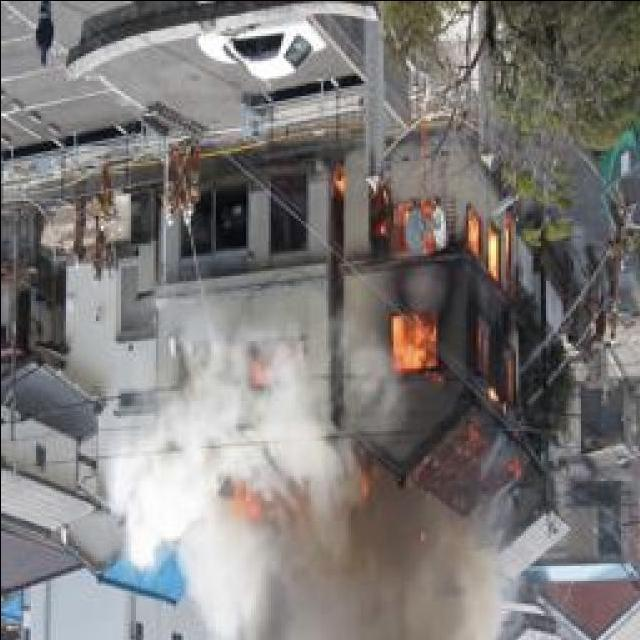Fire: (313, 148, 533, 416)
